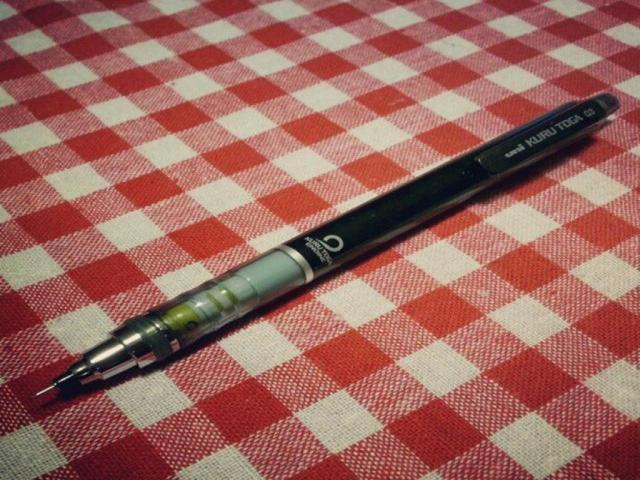PEN: (0, 62, 635, 430)
